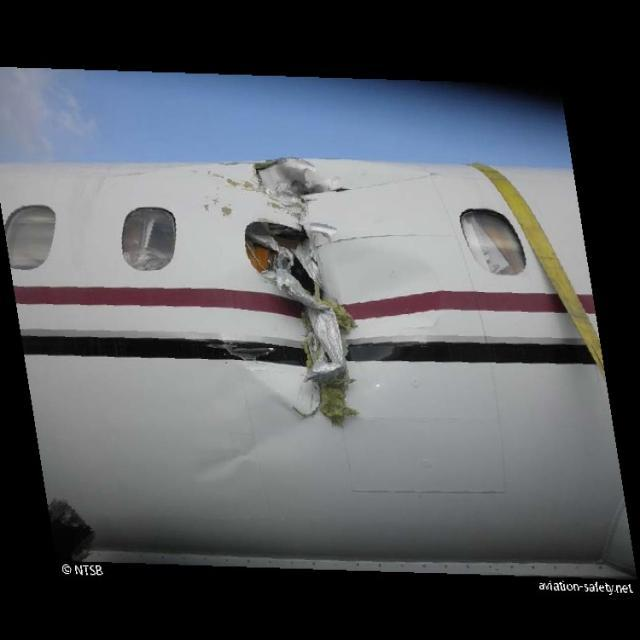crack: (240, 133, 359, 444)
dent: (298, 246, 439, 382), (192, 410, 314, 500)
